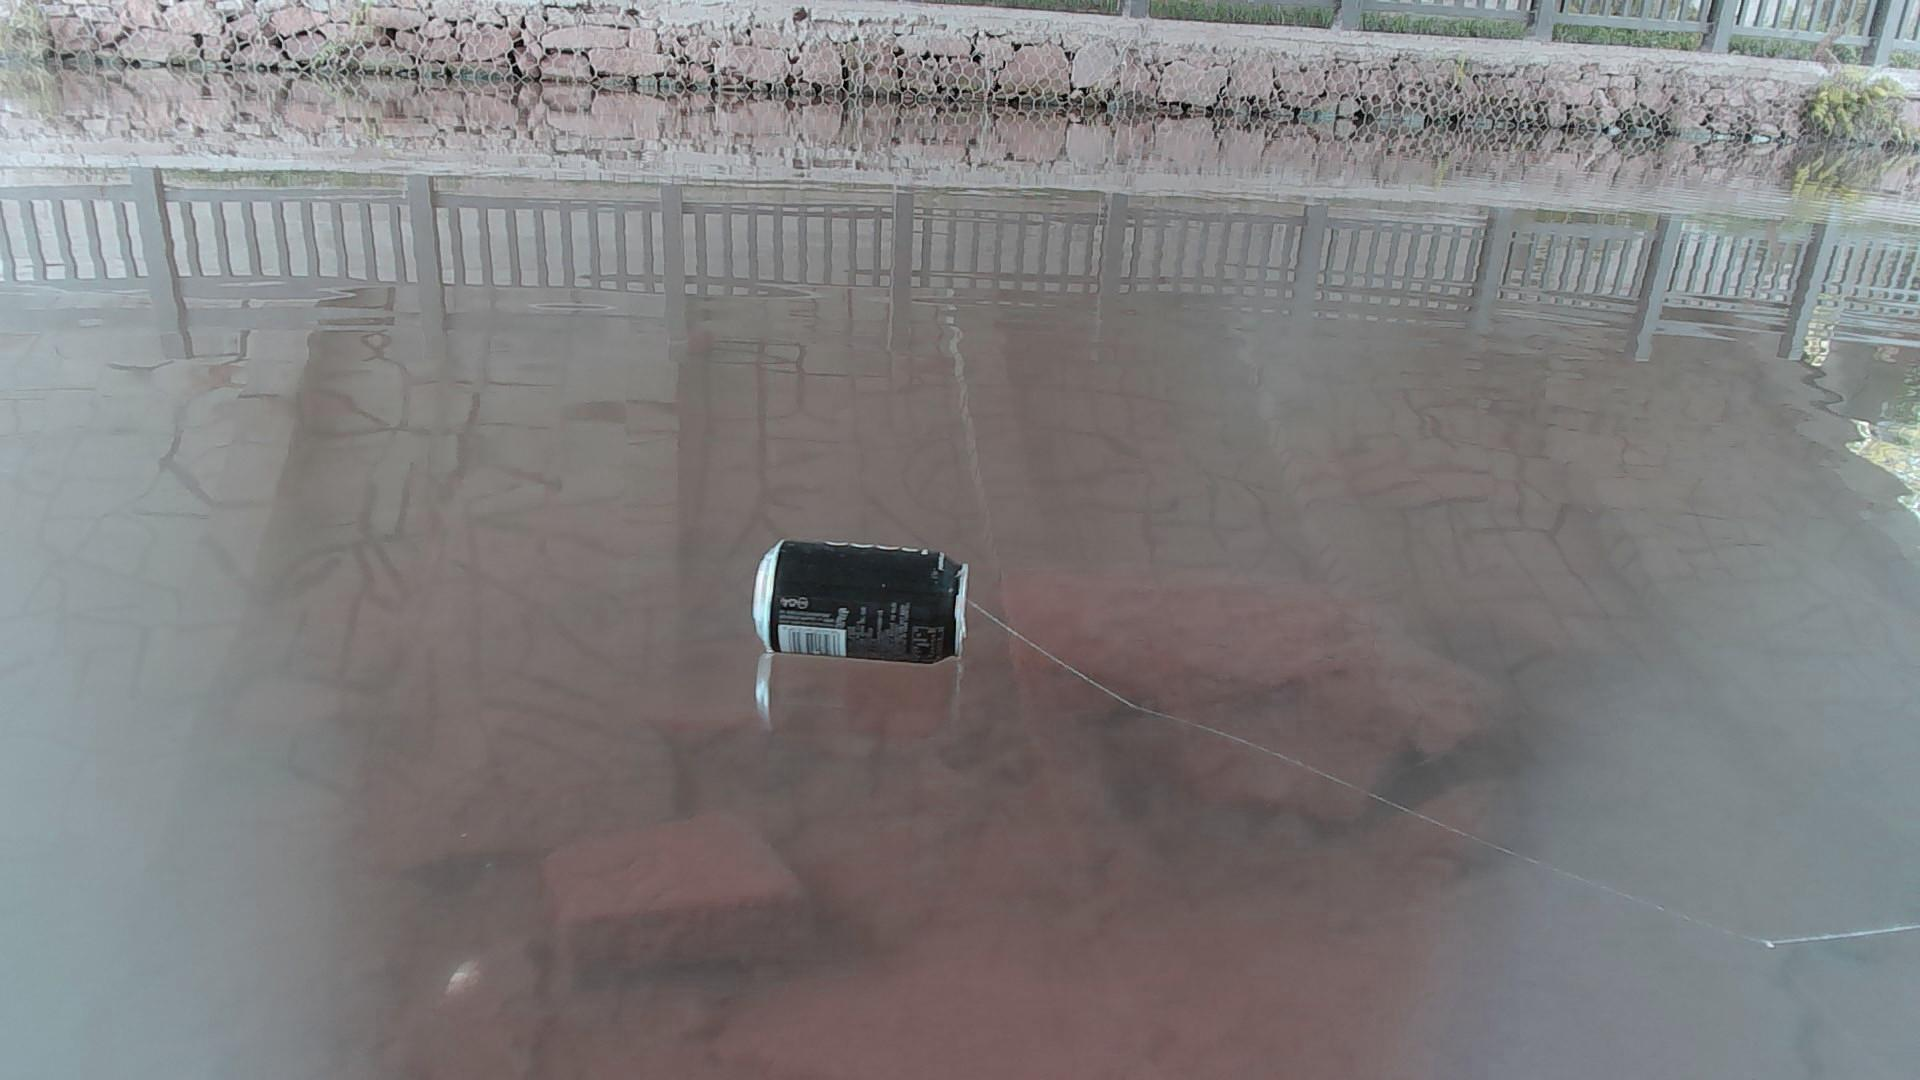Metal: (748, 533, 975, 667)
